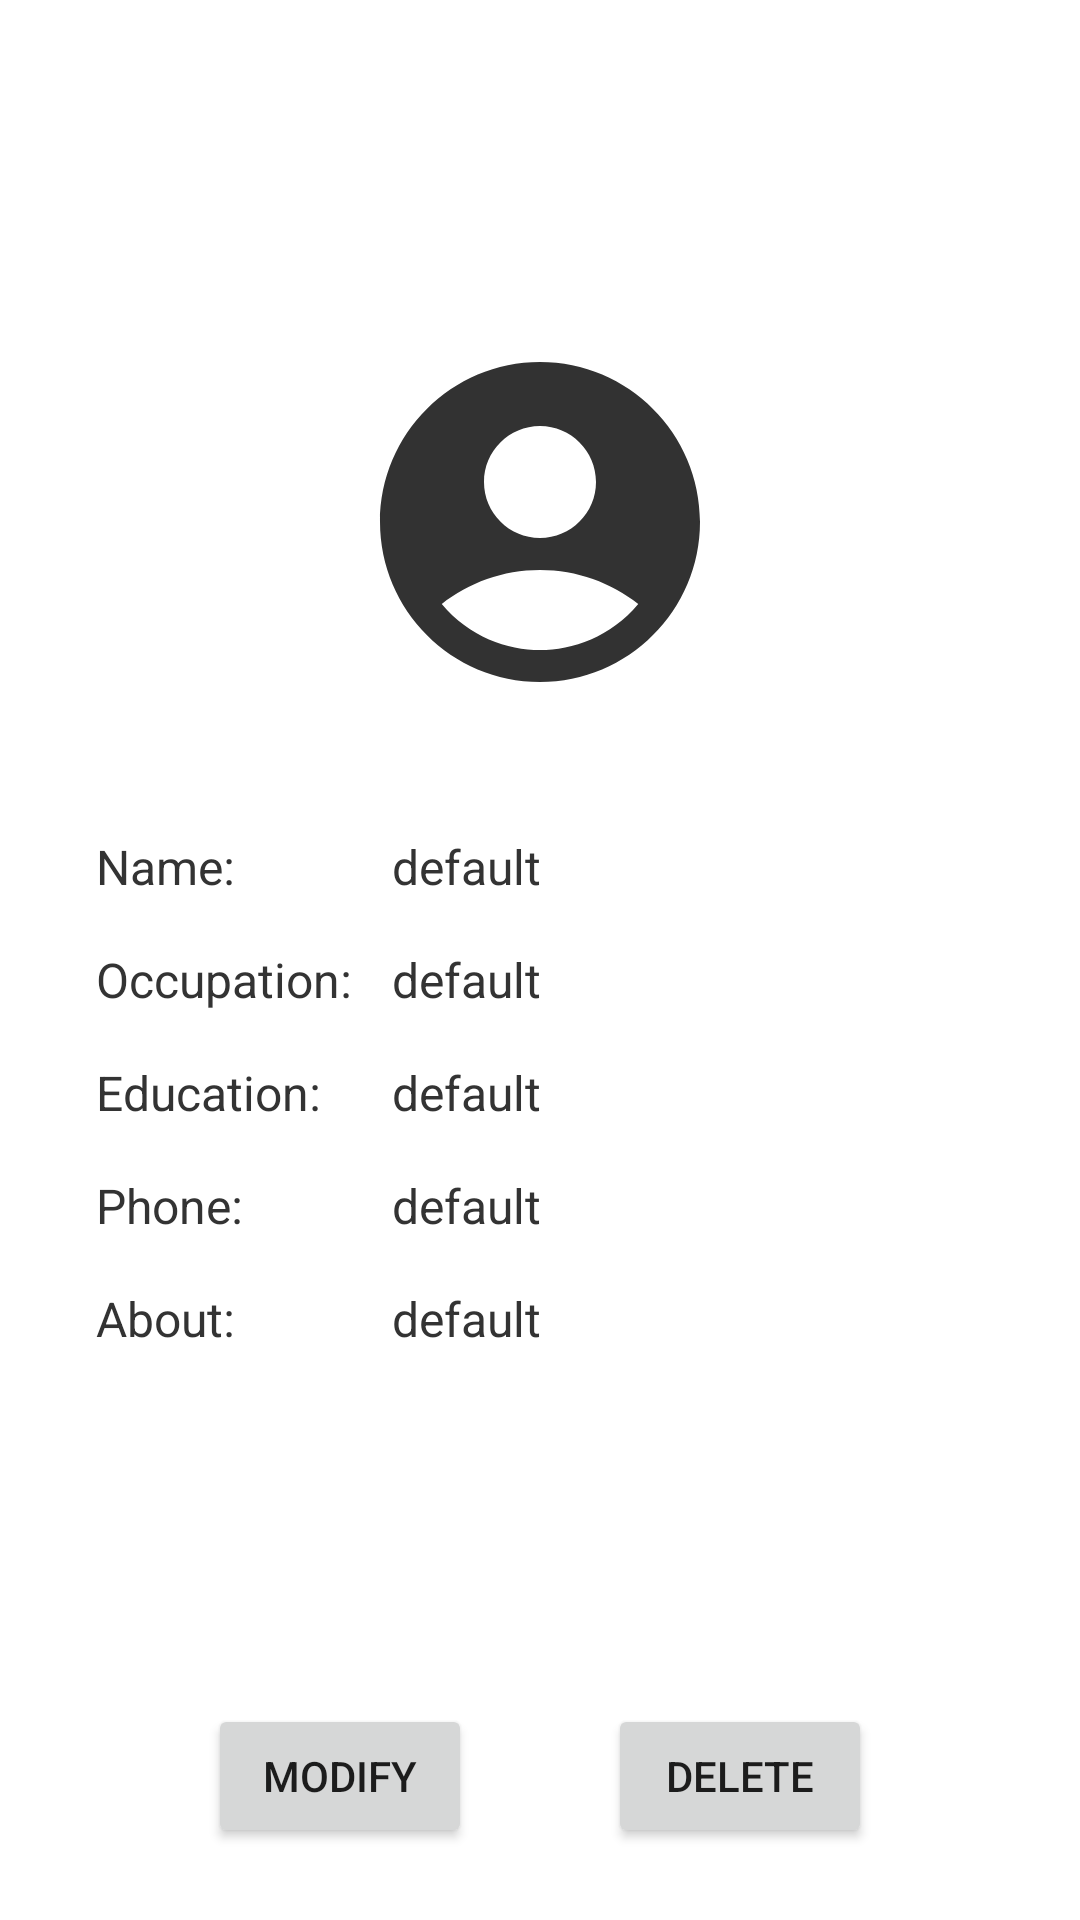

Icons on this 1080x1920 Android screen, each with the point to tap as point (x, y):
account circle: point (540, 522)
